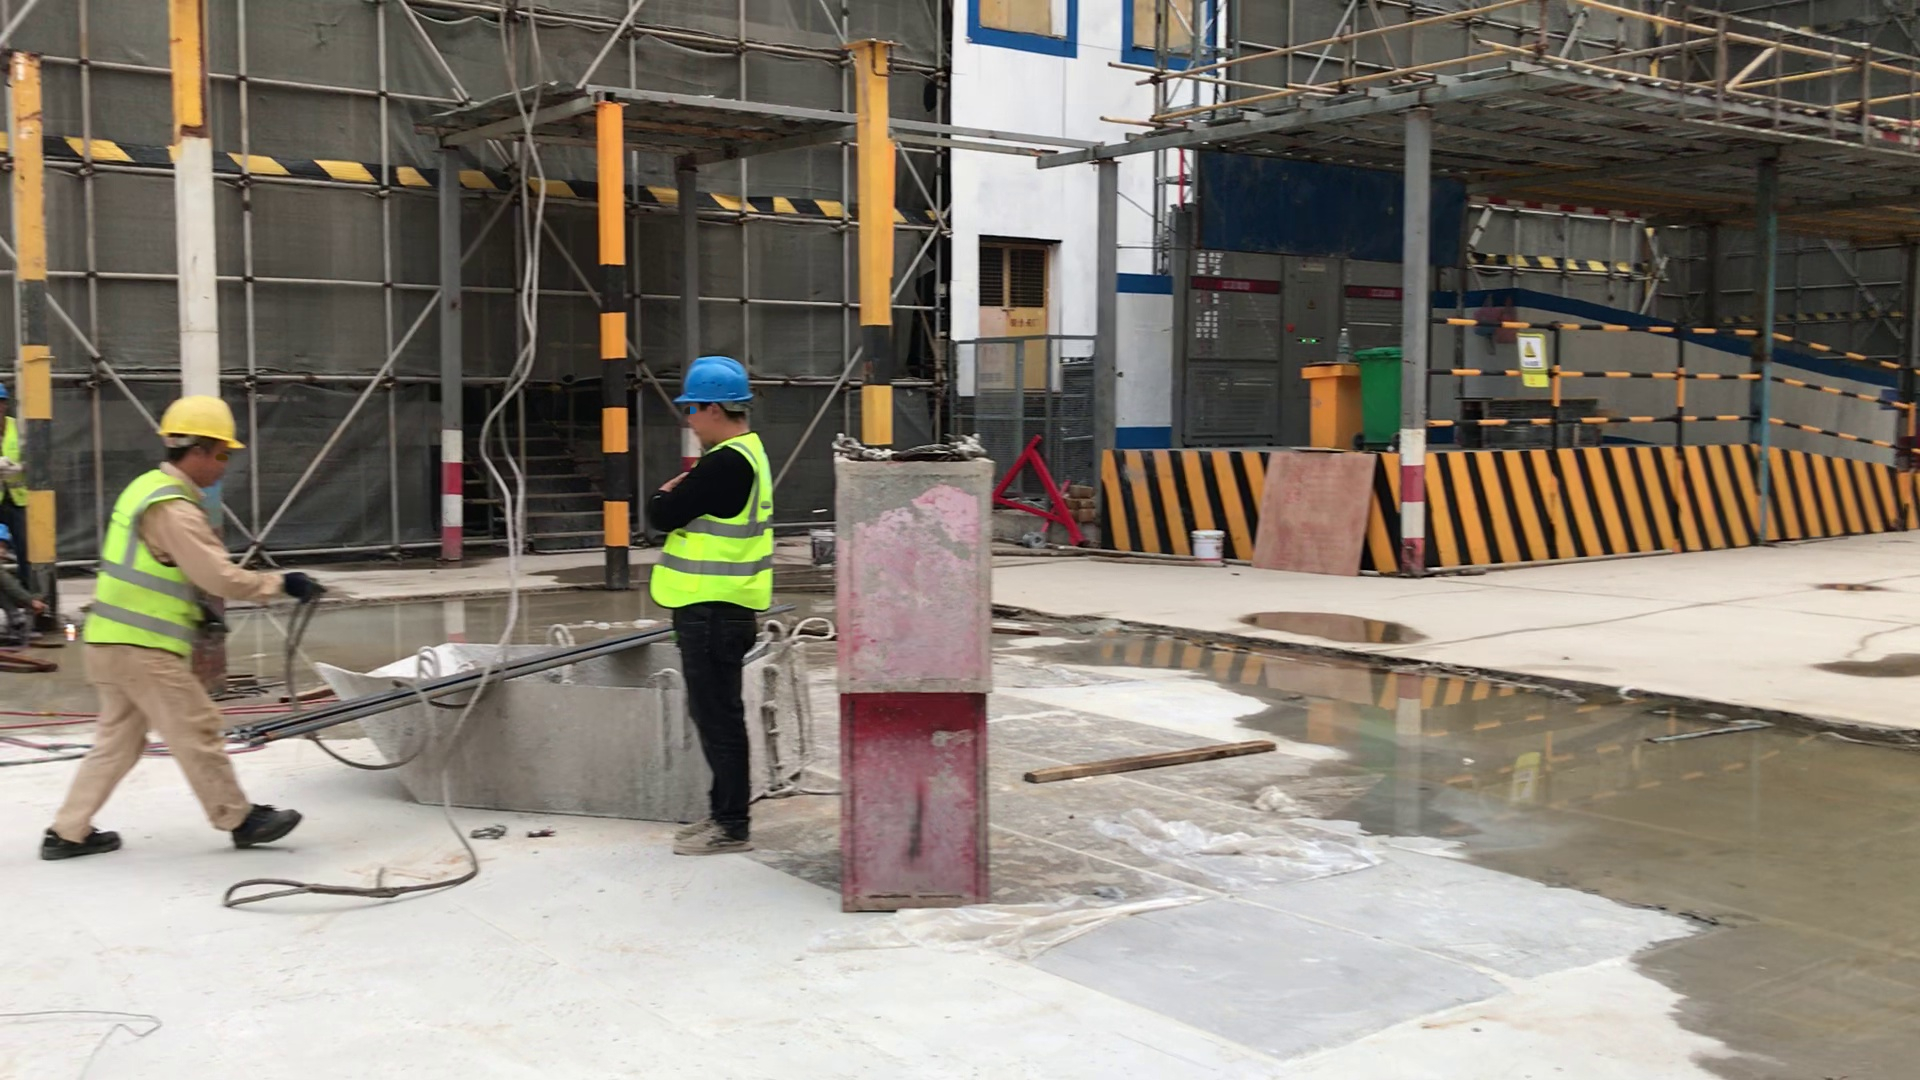fence: (1422, 308, 1920, 469)
helmet: (146, 383, 258, 458), (669, 350, 767, 415)
hopper: (314, 623, 831, 831)
person: (35, 383, 325, 868), (647, 343, 800, 872), (1, 380, 32, 515)
rebar: (218, 631, 675, 747)
slogan: (1510, 330, 1558, 396)
vest: (79, 451, 221, 669), (647, 435, 782, 618), (1, 408, 41, 526)
